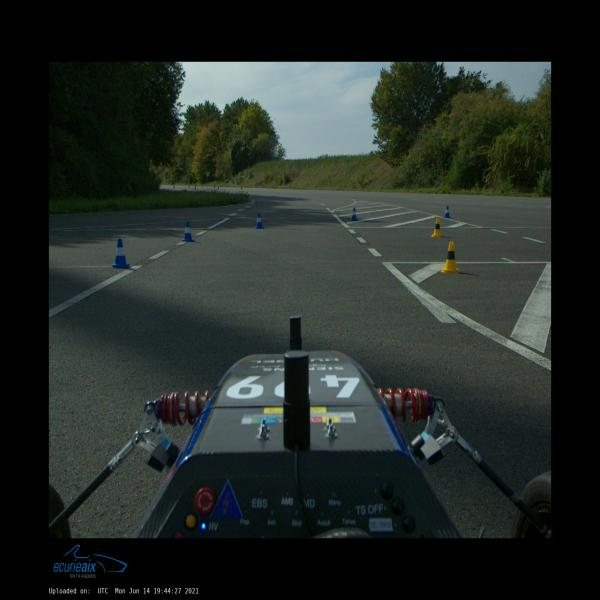blue_cone: (112, 239, 131, 269), (182, 221, 195, 242), (255, 213, 264, 229), (350, 208, 358, 221), (443, 206, 451, 218)
yellow_cone: (440, 241, 460, 274), (431, 218, 444, 237)
